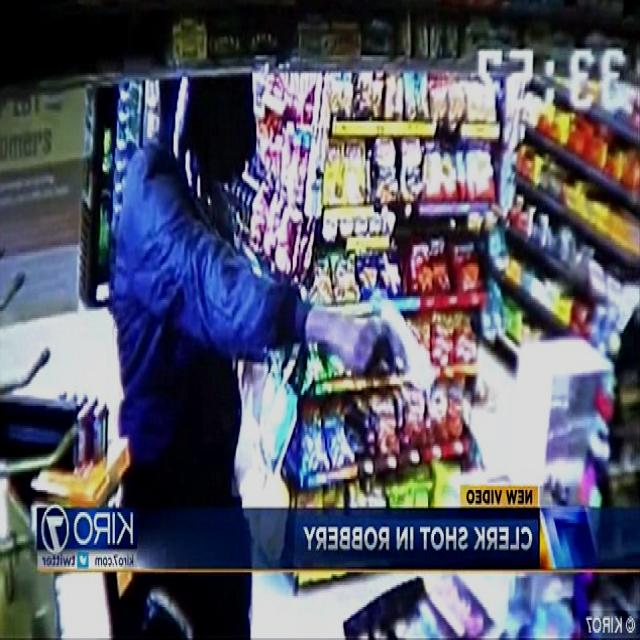pistol: (356, 280, 443, 411)
